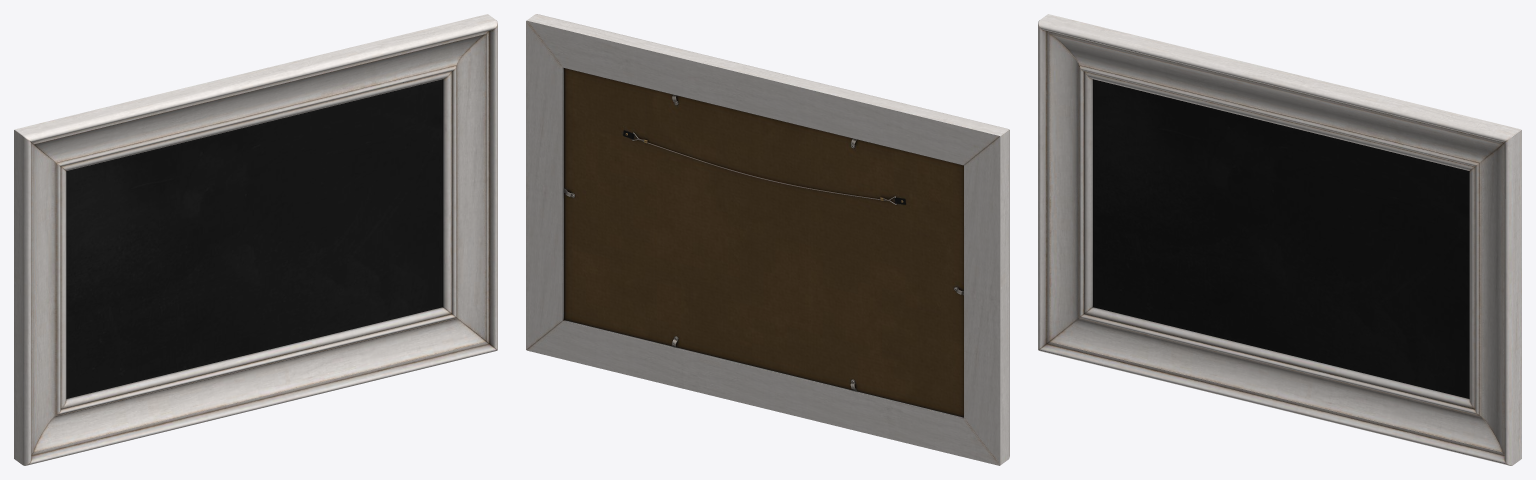
Rendered from hanging_picture_frame_02.glb.
3 renders of one model, left to right at view 1: azimuth 30°, elevation 25°; view 2: azimuth 150°, elevation 25°; view 3: azimuth 330°, elevation 25°, orthographic.
Visible parts, largest first — view 1: hanging_picture_frame_02; view 2: hanging_picture_frame_02; view 3: hanging_picture_frame_02.
Boxes of the visible parts, <box> form: hanging_picture_frame_02: <box>14,14,497,465</box>; hanging_picture_frame_02: <box>526,14,1009,465</box>; hanging_picture_frame_02: <box>1038,14,1521,465</box>.
Bounding box in the file's own units: 0.7518 × 0.5 × 0.033.
3 materials, 3 textured.
